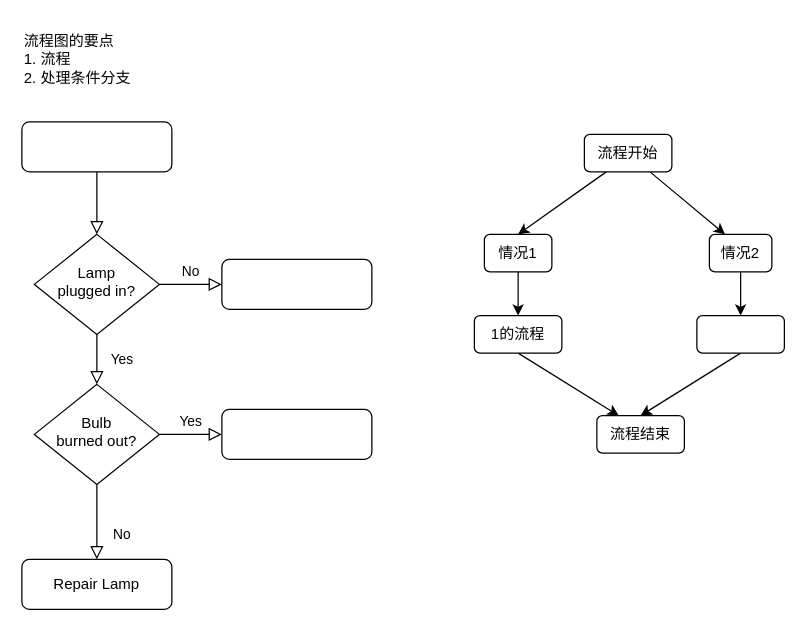
The diagram is 806 pixels wide and 631 high, and some of its shapes have lost their labels. Here are the shapes that lost their labels. From the top down, the centre of each, then its label:
At pixel 96 146: "Lamp doesn't work".
At pixel 296 283: "Plug in lamp".
At pixel 740 333: "2 的流程".
At pixel 296 433: "Replace Bulb".
